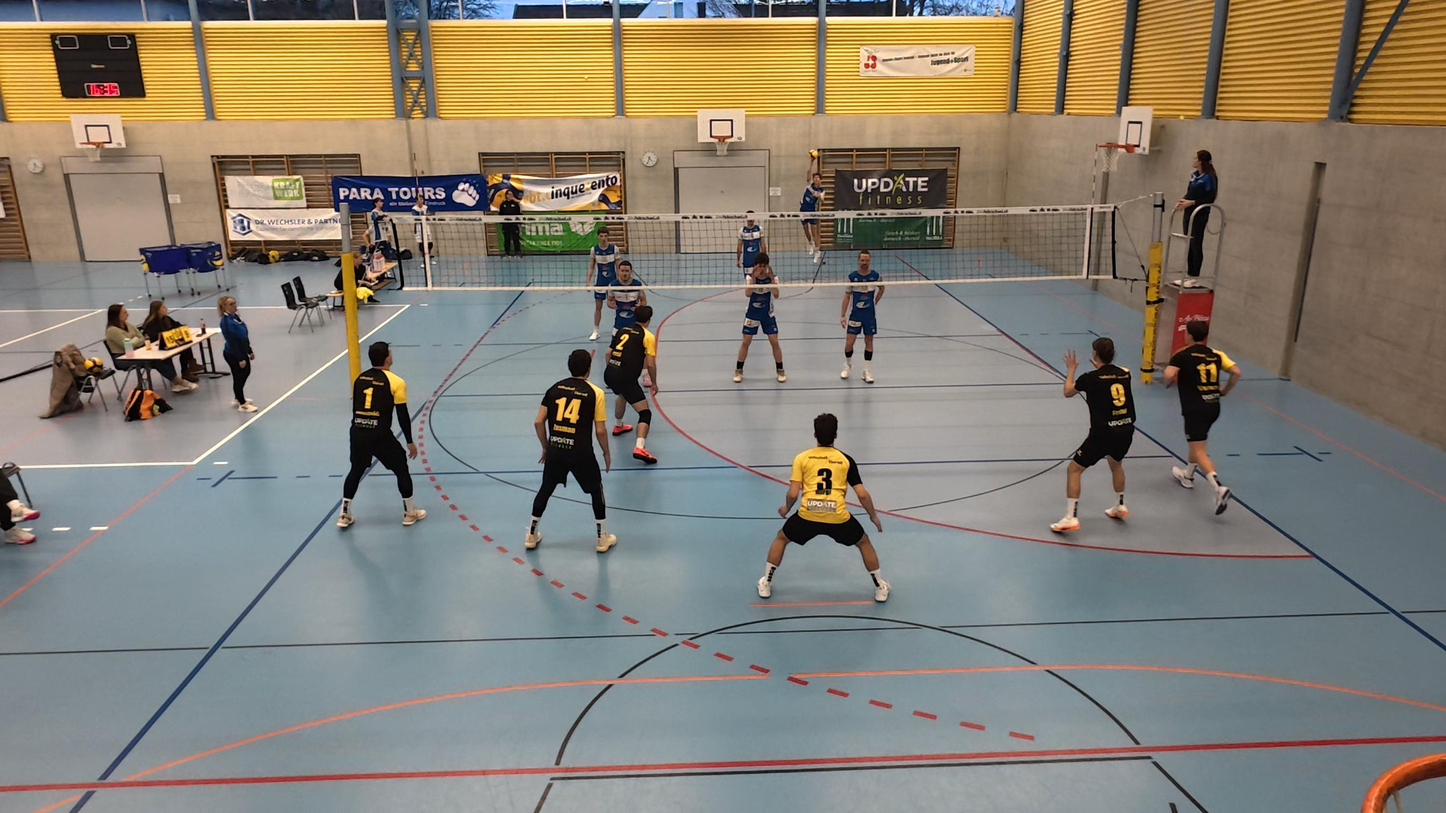Player: (757, 413, 889, 604), (1044, 319, 1138, 541), (524, 350, 617, 554), (1145, 322, 1237, 517), (338, 340, 424, 528), (600, 294, 661, 463), (730, 259, 788, 384), (837, 254, 883, 384), (587, 225, 619, 346), (611, 258, 645, 327), (735, 213, 767, 279)
Serve: (792, 145, 828, 266)
ball: (806, 146, 820, 162)
